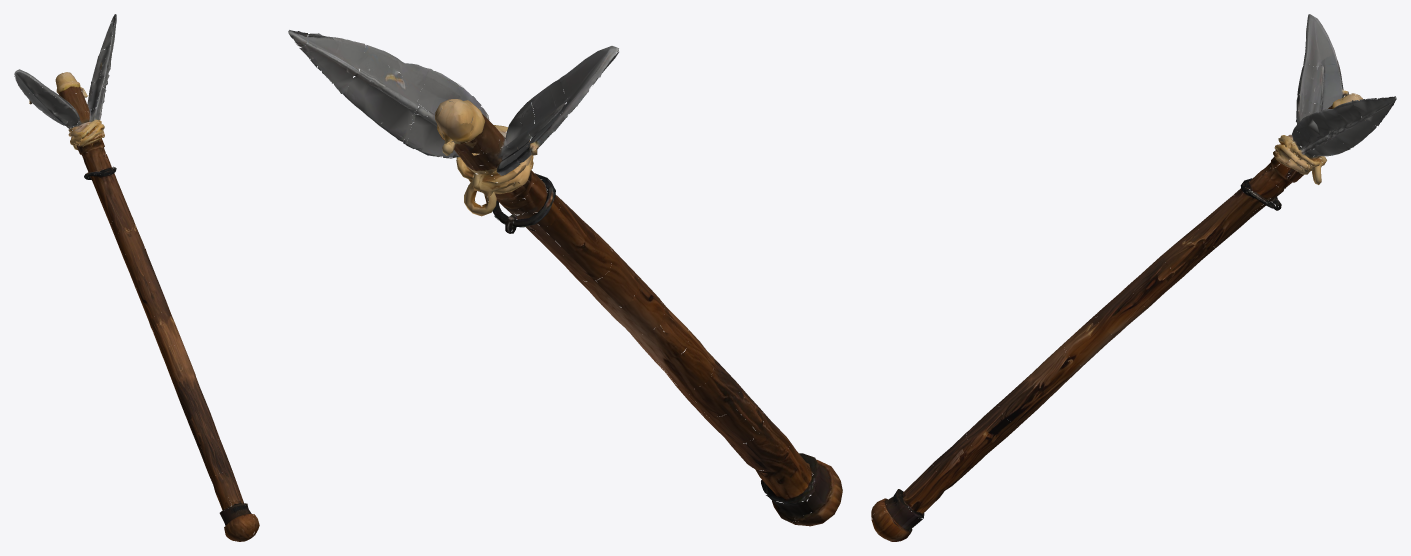
File: honed_spear.glb
The picture shows the model from 3 angles, left to right: view 1: azimuth 30°, elevation 25°; view 2: azimuth 150°, elevation 25°; view 3: azimuth 270°, elevation 25°; orthographic projection. The views are drawn at different scales.
Parts seen in each view (by area): view 1: tripo_node_b4dc4d0f-4771-4345-9957-5cfc4f3e8034; view 2: tripo_node_b4dc4d0f-4771-4345-9957-5cfc4f3e8034; view 3: tripo_node_b4dc4d0f-4771-4345-9957-5cfc4f3e8034.
Boxes of the visible parts, x1=… form: tripo_node_b4dc4d0f-4771-4345-9957-5cfc4f3e8034: x1=14, y1=14, x2=259, y2=541; tripo_node_b4dc4d0f-4771-4345-9957-5cfc4f3e8034: x1=288, y1=30, x2=842, y2=526; tripo_node_b4dc4d0f-4771-4345-9957-5cfc4f3e8034: x1=871, y1=14, x2=1396, y2=541.
Size of the model in its own units: 0.3764 by 1 by 0.9824.
Materials: 1 (1 with a texture image).
